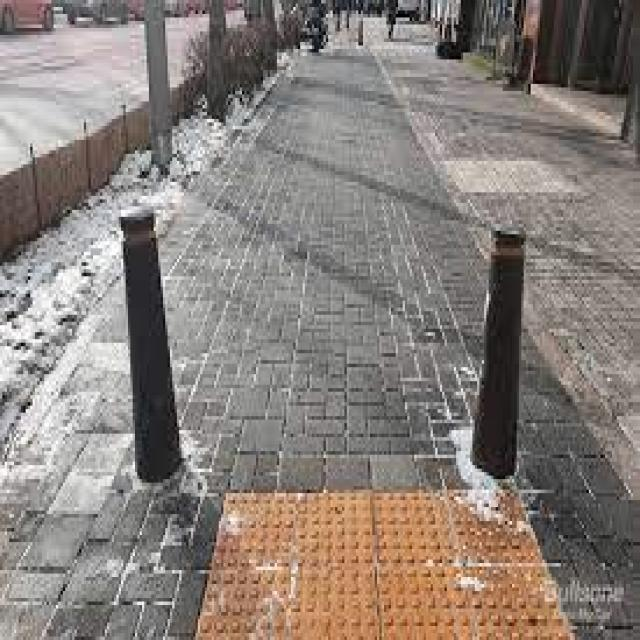bollard: (112, 199, 193, 496), (464, 205, 532, 486)
